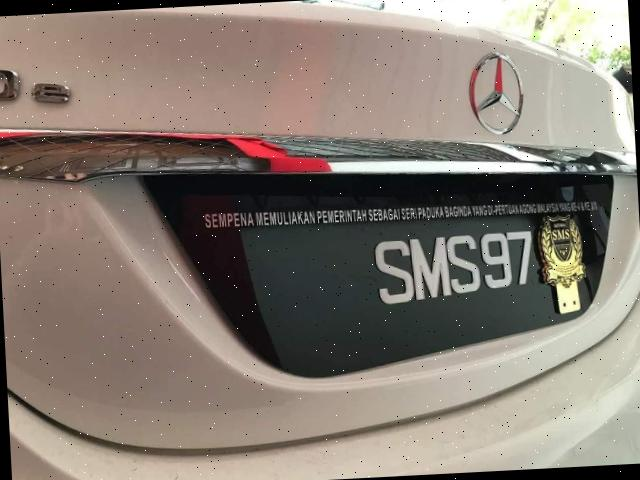License_Plate: (346, 217, 555, 325)
